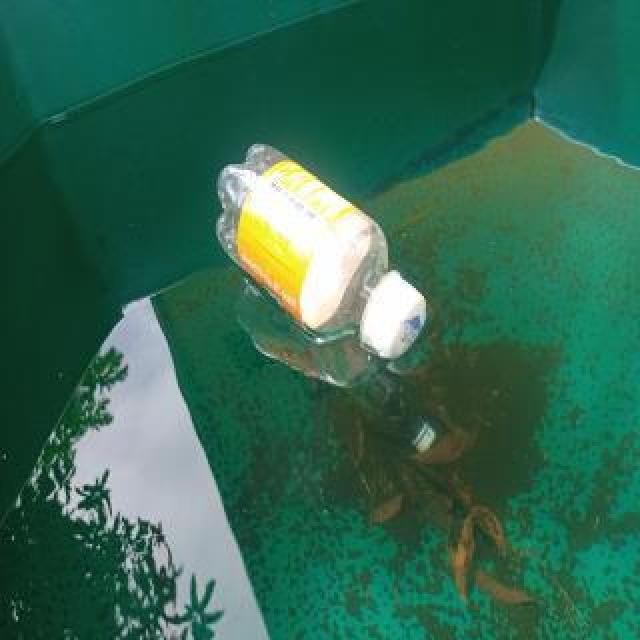bottle: (209, 132, 431, 366)
